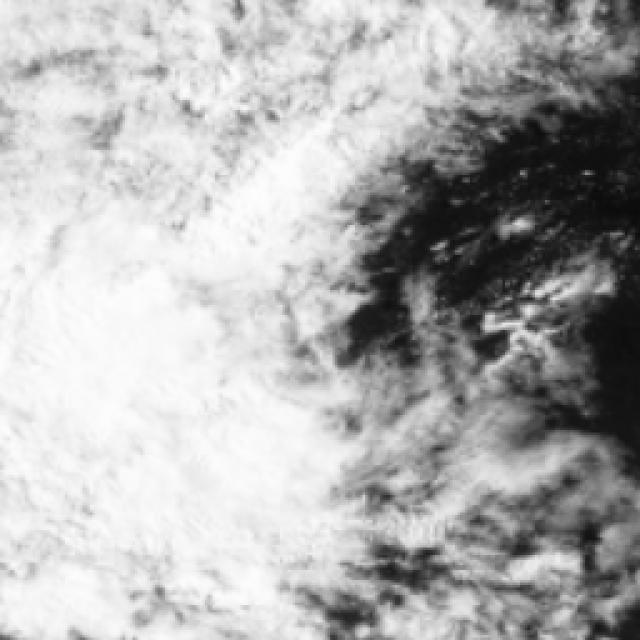CB: (9, 257, 236, 468)
